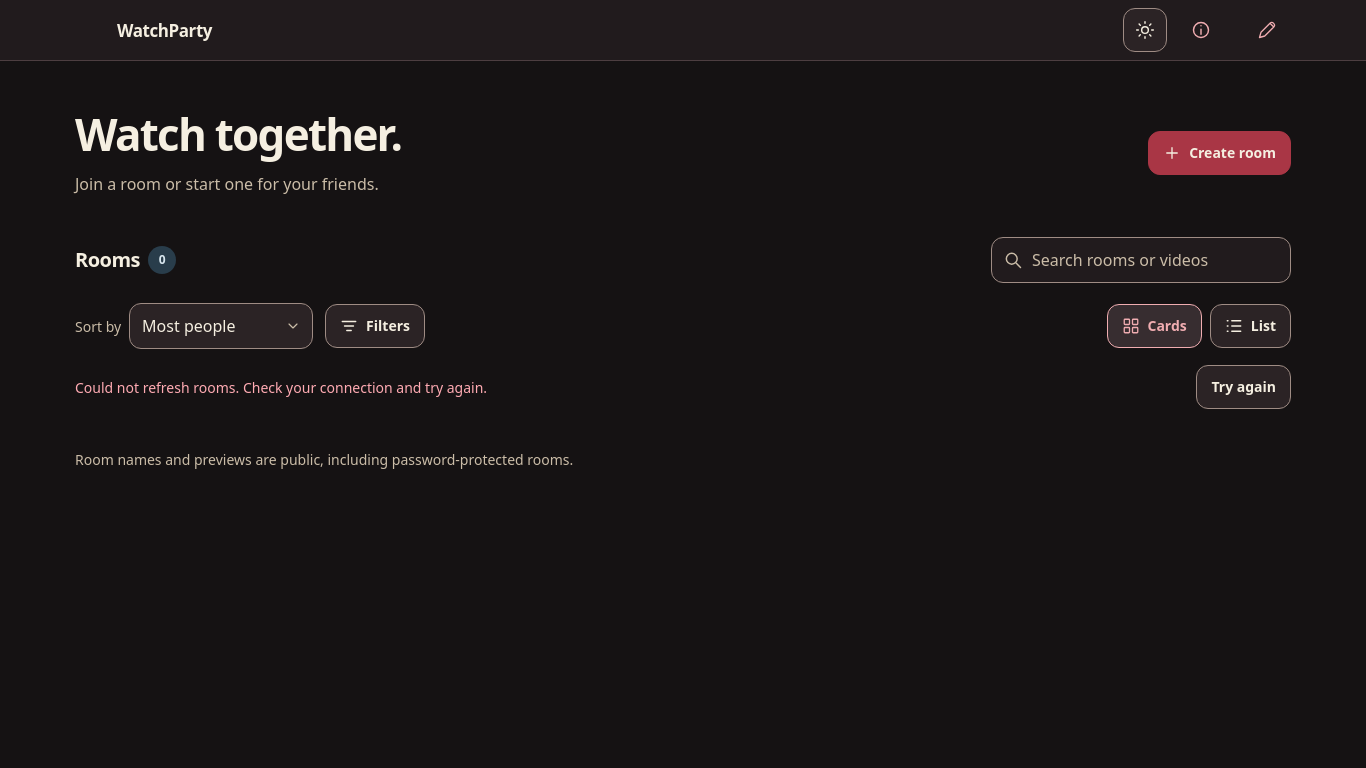
Test case: React hub › shows directory failure, retries, and reports expired invitations
This screenshot has width=1366, height=768.
Step 1. Click the button "Try again" → (1244,387), box [1196,365,1291,409]
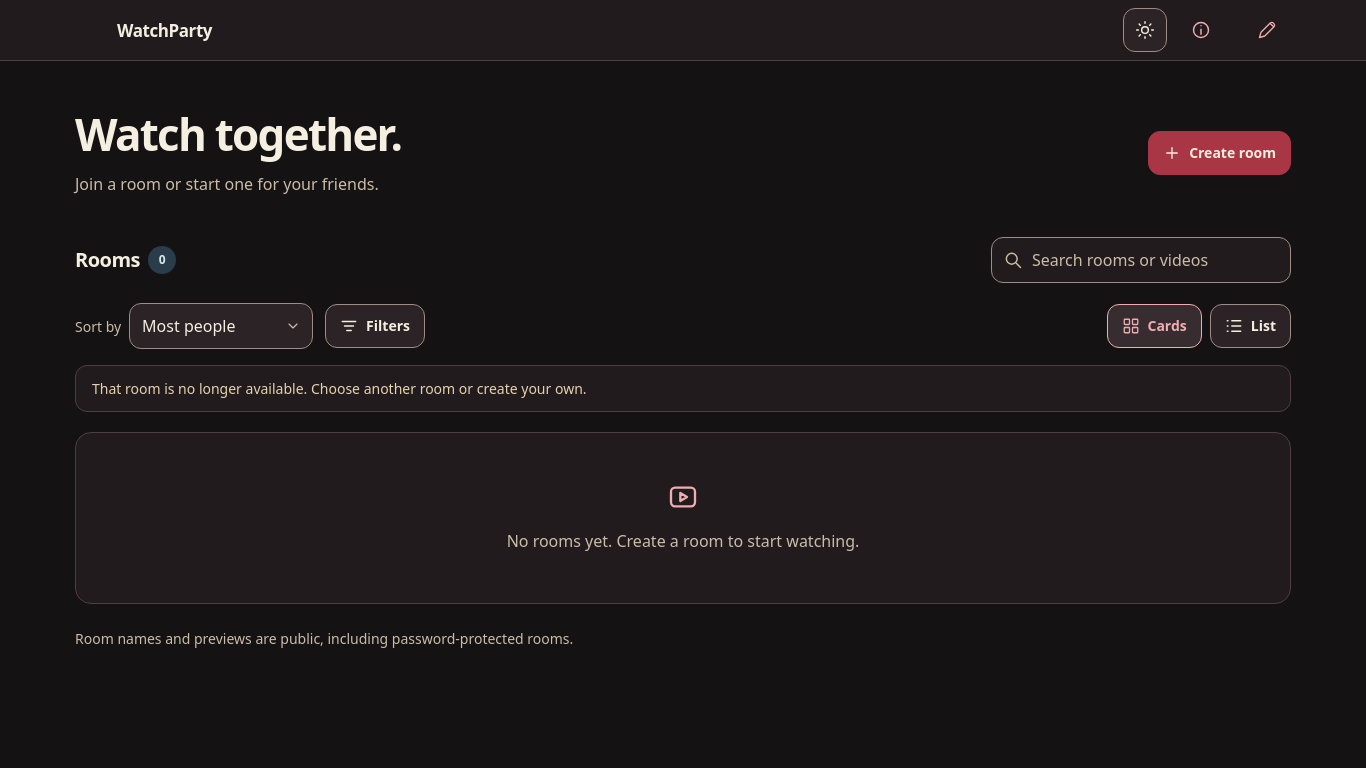
expect the text "That room is no longer available. Choose another room or create your own." is shown: met, box [75,365,1291,412]
